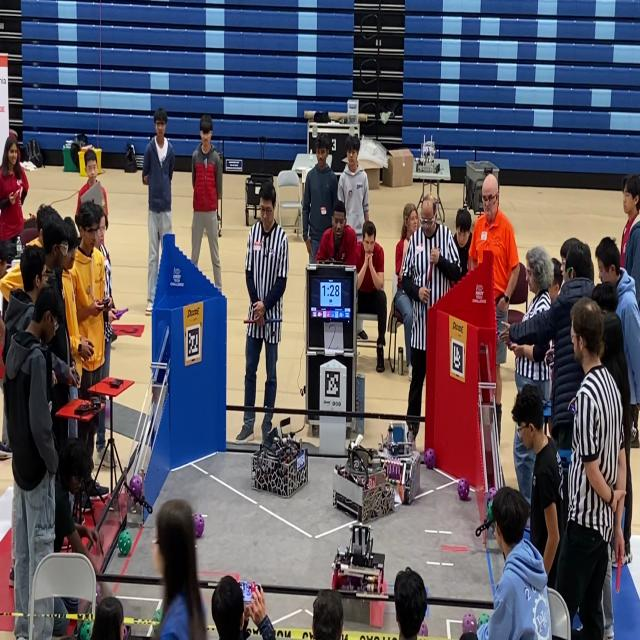artifact_green: (118, 530, 132, 556), (79, 620, 91, 639), (152, 607, 164, 624), (419, 620, 428, 637), (478, 614, 489, 627), (487, 501, 492, 520), (491, 521, 495, 533)
artifact_purple: (462, 613, 477, 633), (130, 475, 142, 498), (194, 514, 204, 538), (424, 448, 435, 469), (458, 479, 469, 500), (419, 621, 428, 637), (487, 488, 497, 502), (123, 626, 130, 639), (97, 584, 101, 602)
